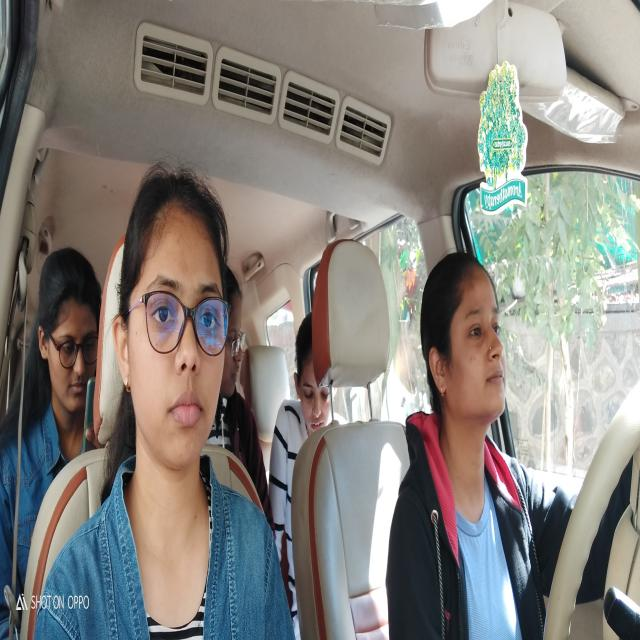person: (110, 162, 236, 487), (419, 259, 515, 442), (36, 243, 101, 417), (292, 303, 335, 437), (222, 255, 248, 411)
